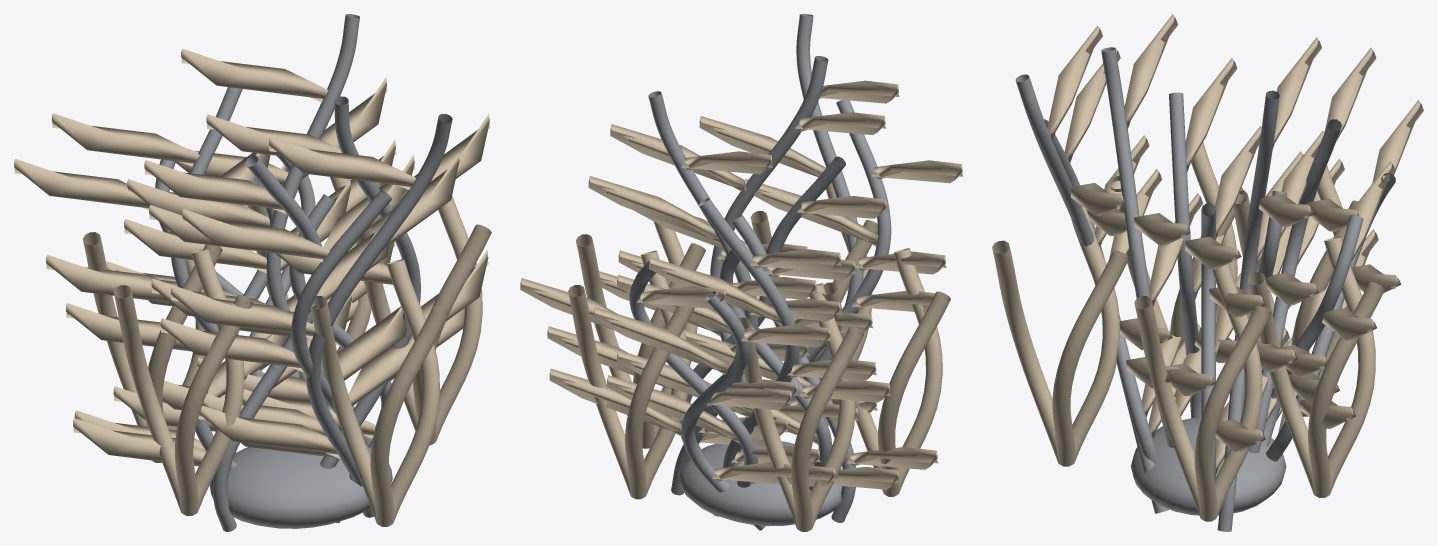
File: bio_aquatic_frond_19_near.glb
3 renders of one model, left to right at view 1: azimuth 30°, elevation 25°; view 2: azimuth 150°, elevation 25°; view 3: azimuth 270°, elevation 25°, orthographic. The views are drawn at different scales.
Visible parts, largest first — view 1: Ruffled aquatic blade.010, Spiral filament.006, Spiral filament.012, Holdfast, Ruffled aquatic blade.035, Ruffled aquatic blade.040, Ruffled aquatic blade.020, Ruffled aquatic blade.005, Ruffled aquatic blade.025, Ruffled aquatic blade.045, Spiral filament, Flexible stipe.002 (+14 smaller); view 2: Ruffled aquatic blade.030, Spiral filament.003, Spiral filament.009, Spiral filament.012, Ruffled aquatic blade.005, Ruffled aquatic blade.015, Ruffled aquatic blade.040, Ruffled aquatic blade.020, Ruffled aquatic blade.045, Ruffled aquatic blade.010, Holdfast, Ruffled aquatic blade.025 (+14 smaller); view 3: Spiral filament.006, Spiral filament, Spiral filament.009, Ruffled aquatic blade.025, Holdfast, Ruffled aquatic blade.010, Ruffled aquatic blade, Ruffled aquatic blade.035, Ruffled aquatic blade.040, Flexible stipe.008, Ruffled aquatic blade.005, Flexible stipe.005 (+14 smaller).
Part boxes in pixels (x1,y1,x2,y2): Ruffled aquatic blade.010: (170, 136, 460, 458); Spiral filament.006: (310, 259, 448, 526); Spiral filament.012: (113, 249, 253, 515); Holdfast: (209, 445, 392, 528); Ruffled aquatic blade.035: (160, 209, 414, 459); Ruffled aquatic blade.040: (124, 48, 395, 404); Ruffled aquatic blade.020: (73, 155, 415, 466); Ruffled aquatic blade.005: (46, 113, 297, 409); Ruffled aquatic blade.025: (202, 114, 490, 435); Ruffled aquatic blade.045: (66, 179, 351, 452); Spiral filament: (356, 195, 491, 445); Flexible stipe.002: (306, 114, 452, 517); Ruffled aquatic blade.030: (549, 307, 831, 484); Spiral filament.003: (739, 283, 864, 531); Spiral filament.009: (568, 250, 694, 499); Spiral filament.012: (822, 248, 950, 496); Ruffled aquatic blade.005: (617, 249, 876, 467); Ruffled aquatic blade.015: (520, 278, 836, 487); Ruffled aquatic blade.040: (588, 151, 841, 437); Ruffled aquatic blade.020: (634, 196, 938, 469); Ruffled aquatic blade.045: (617, 275, 899, 489); Ruffled aquatic blade.010: (699, 80, 946, 413); Holdfast: (678, 441, 841, 526); Ruffled aquatic blade.025: (599, 112, 886, 425); Spiral filament.006: (992, 205, 1129, 466); Spiral filament: (1134, 263, 1271, 521); Spiral filament.009: (1247, 236, 1384, 497); Ruffled aquatic blade.025: (1124, 14, 1217, 415); Holdfast: (1130, 417, 1286, 515); Ruffled aquatic blade.010: (1047, 25, 1183, 417); Ruffled aquatic blade: (1209, 126, 1265, 474); Ruffled aquatic blade.035: (1064, 47, 1201, 439); Ruffled aquatic blade.040: (1242, 37, 1321, 410); Flexible stipe.008: (1217, 90, 1279, 531); Ruffled aquatic blade.005: (1265, 48, 1376, 423); Flexible stipe.005: (1101, 47, 1173, 447).
Bounding box in the file's own units: 1.8 × 1.89 × 1.66.
